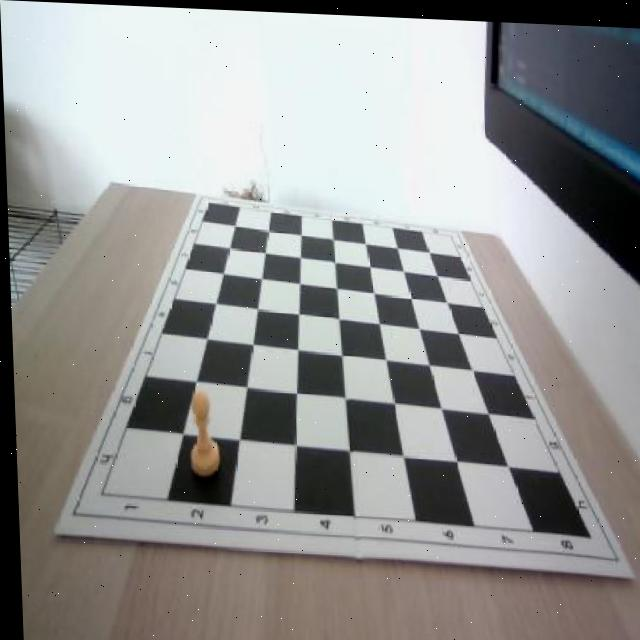white-knight: (183, 388, 218, 478)
